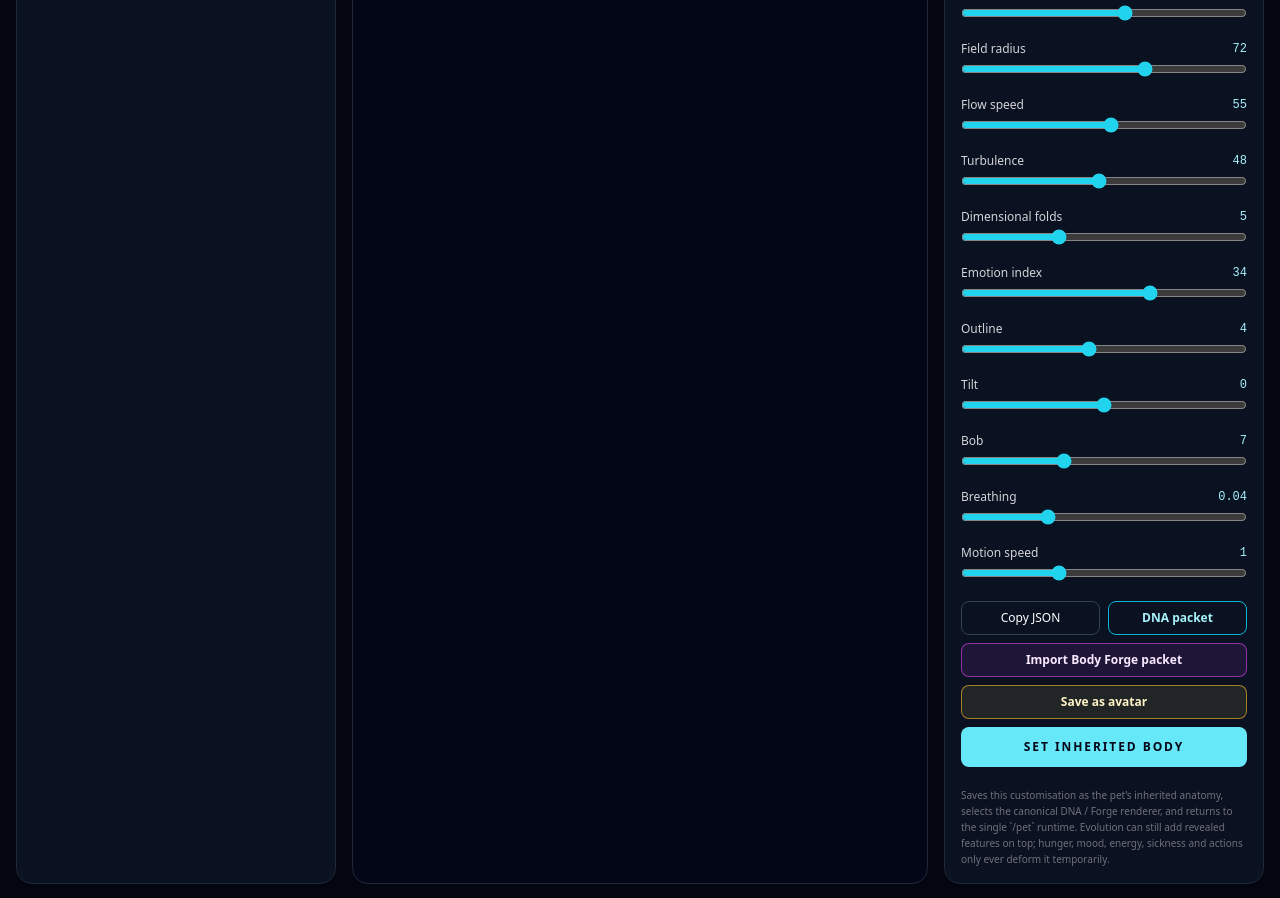
Test: Body Forge identity avatar export › saves a valid identity avatar, shows its thumbnail, and links to Identity
The width and height of the screenshot is (1280, 898).
(page scrolled)
Click the button "Save as avatar" at (1104, 702), box x1=961 y1=684 x2=1247 y2=718
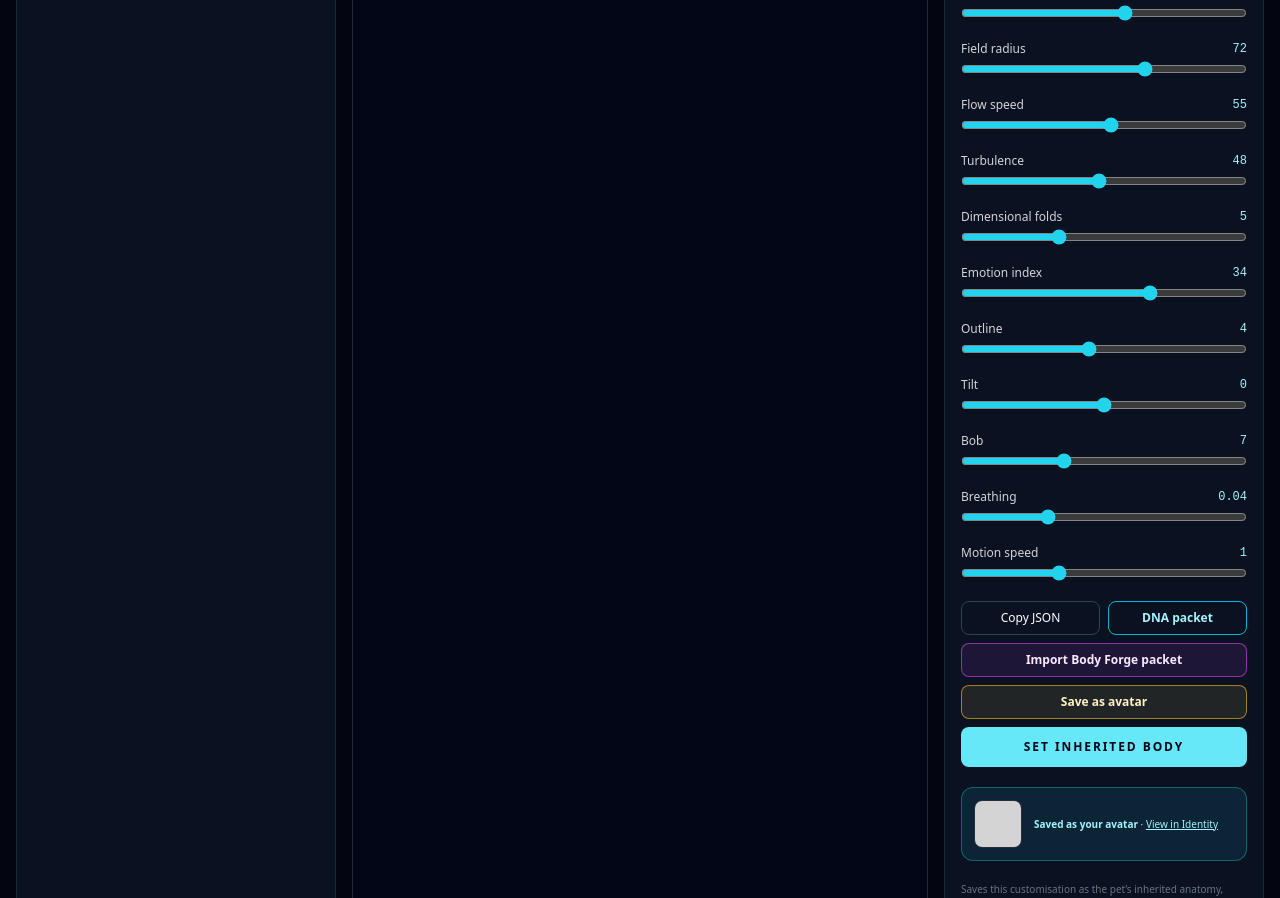
expect the text "Saved as your avatar" is shown: met, box x1=1034 y1=816 x2=1138 y2=830
